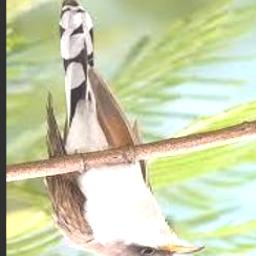Cuckoo: (44, 0, 205, 256)
